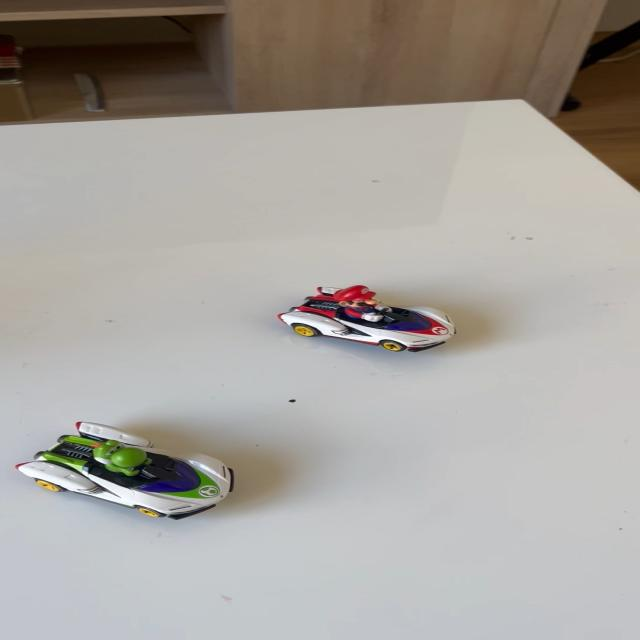mario: (264, 281, 475, 360)
yoshi: (16, 421, 257, 528)
